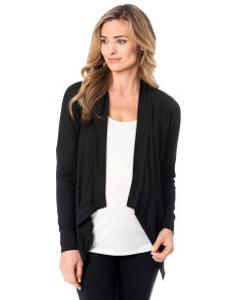S_cardigan sweater: (43, 76, 182, 261)
